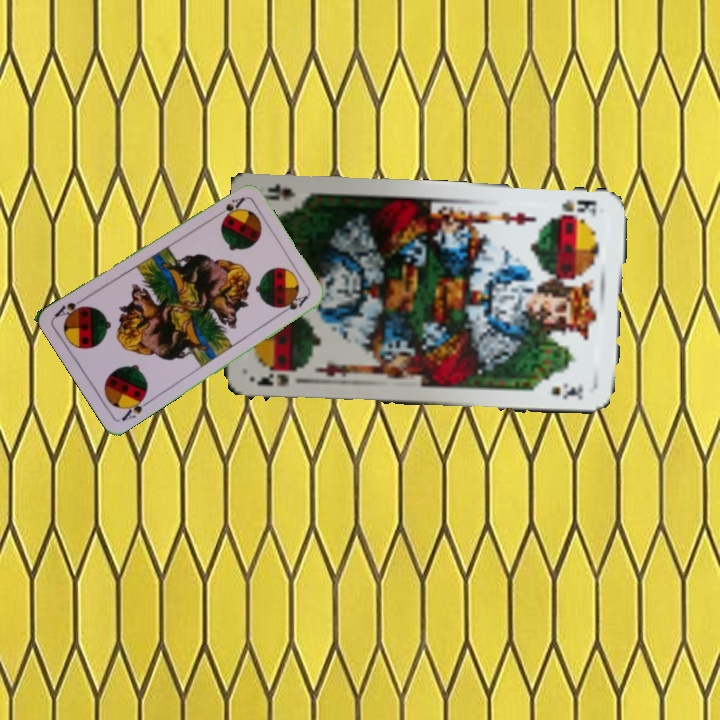SA: (117, 391, 153, 424), (211, 193, 247, 220)
SK: (558, 194, 599, 219), (253, 370, 291, 389)
